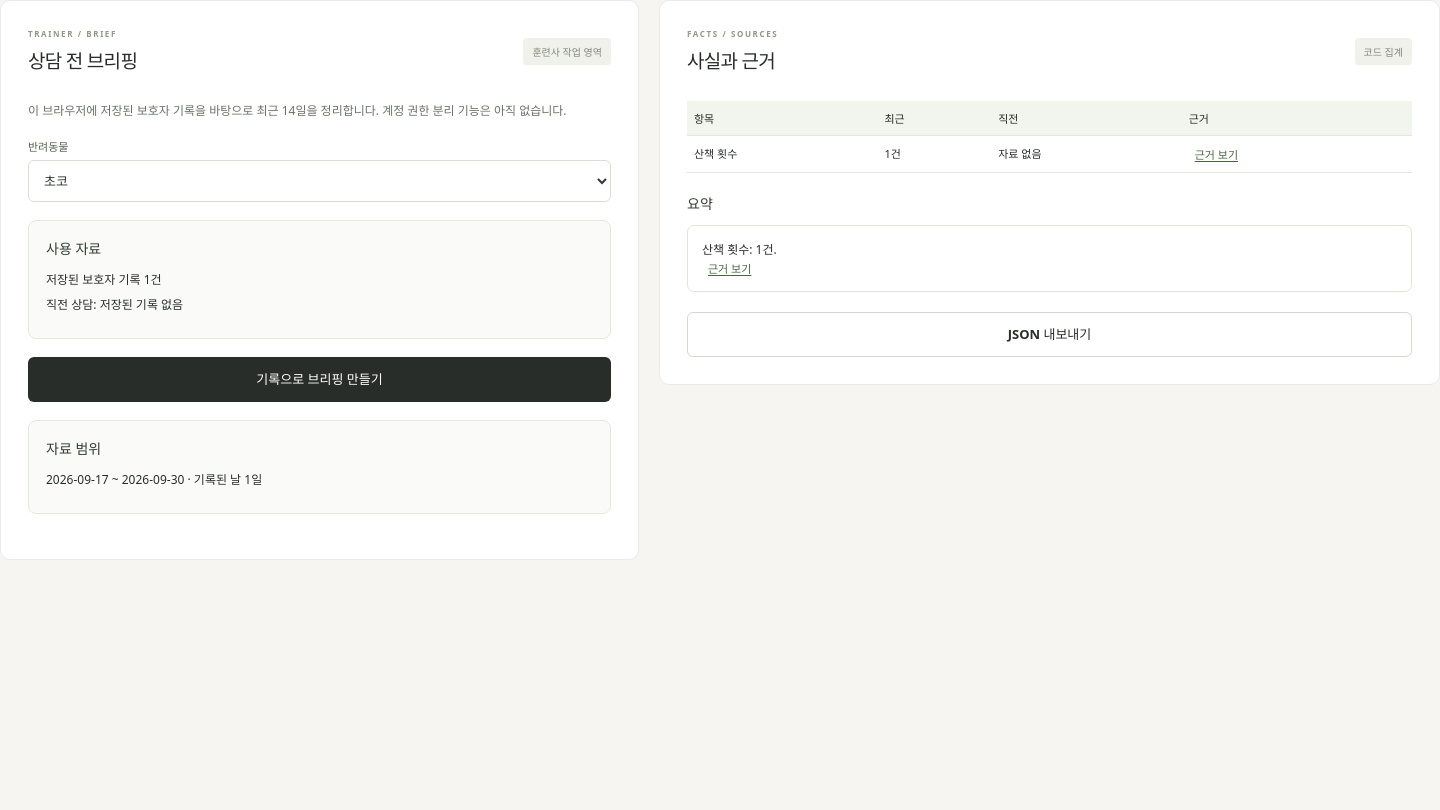
Test: summary fact reference opens original owner event quote
The image size is (1440, 810).
Click the button "근거 보기" below "산책 횟수: 1건." at {"x": 730, "y": 268}, box [702, 259, 757, 277]
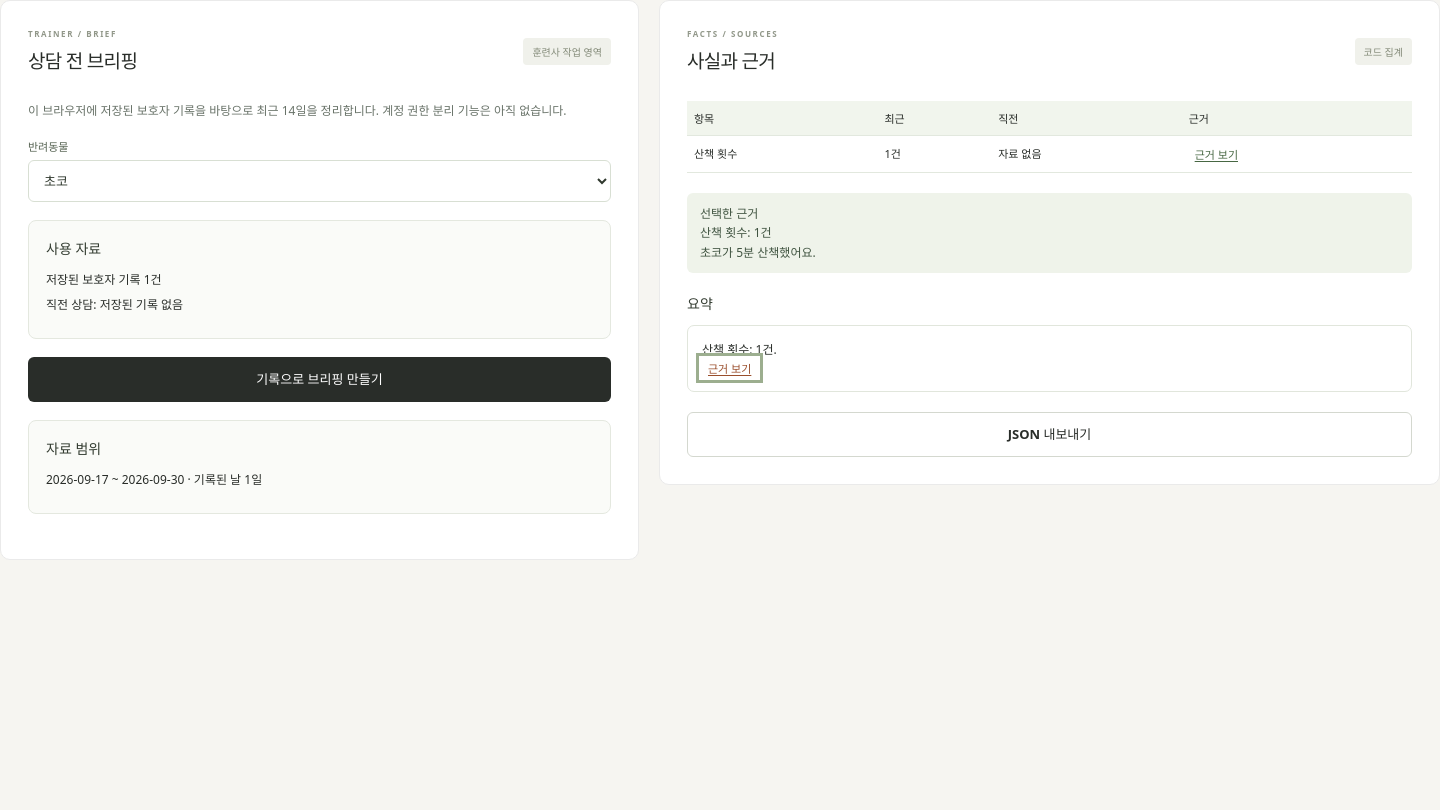
Expected: the message shows "초코가 5분 산책했어요.", [700, 244, 816, 261]
